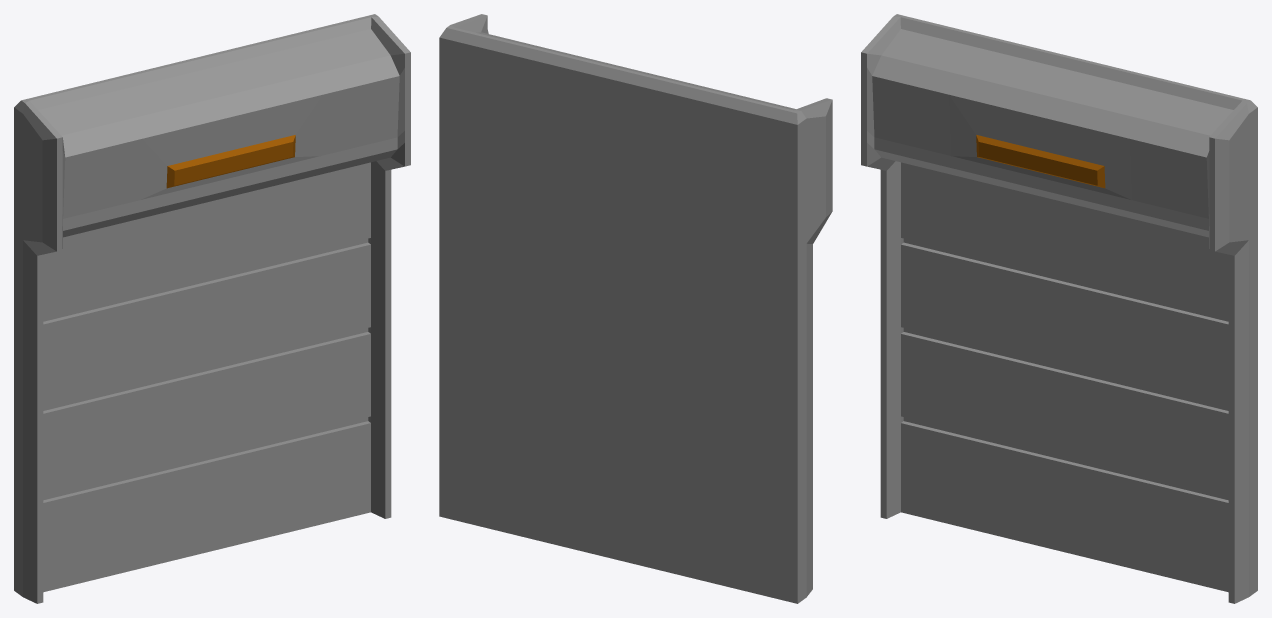
3 views of the same model, side by side, from view 1: azimuth 30°, elevation 25°; view 2: azimuth 150°, elevation 25°; view 3: azimuth 330°, elevation 25° (orthographic).
Visible parts, largest first — view 1: Pared 1; view 2: Pared 1; view 3: Pared 1.
Boxes of the visible parts, x1,y1,x2,y2 form: Pared 1: (14,14,410,603); Pared 1: (439,14,832,603); Pared 1: (861,14,1257,603).
Size of the model in its own units: 183 by 238 by 34.3.
